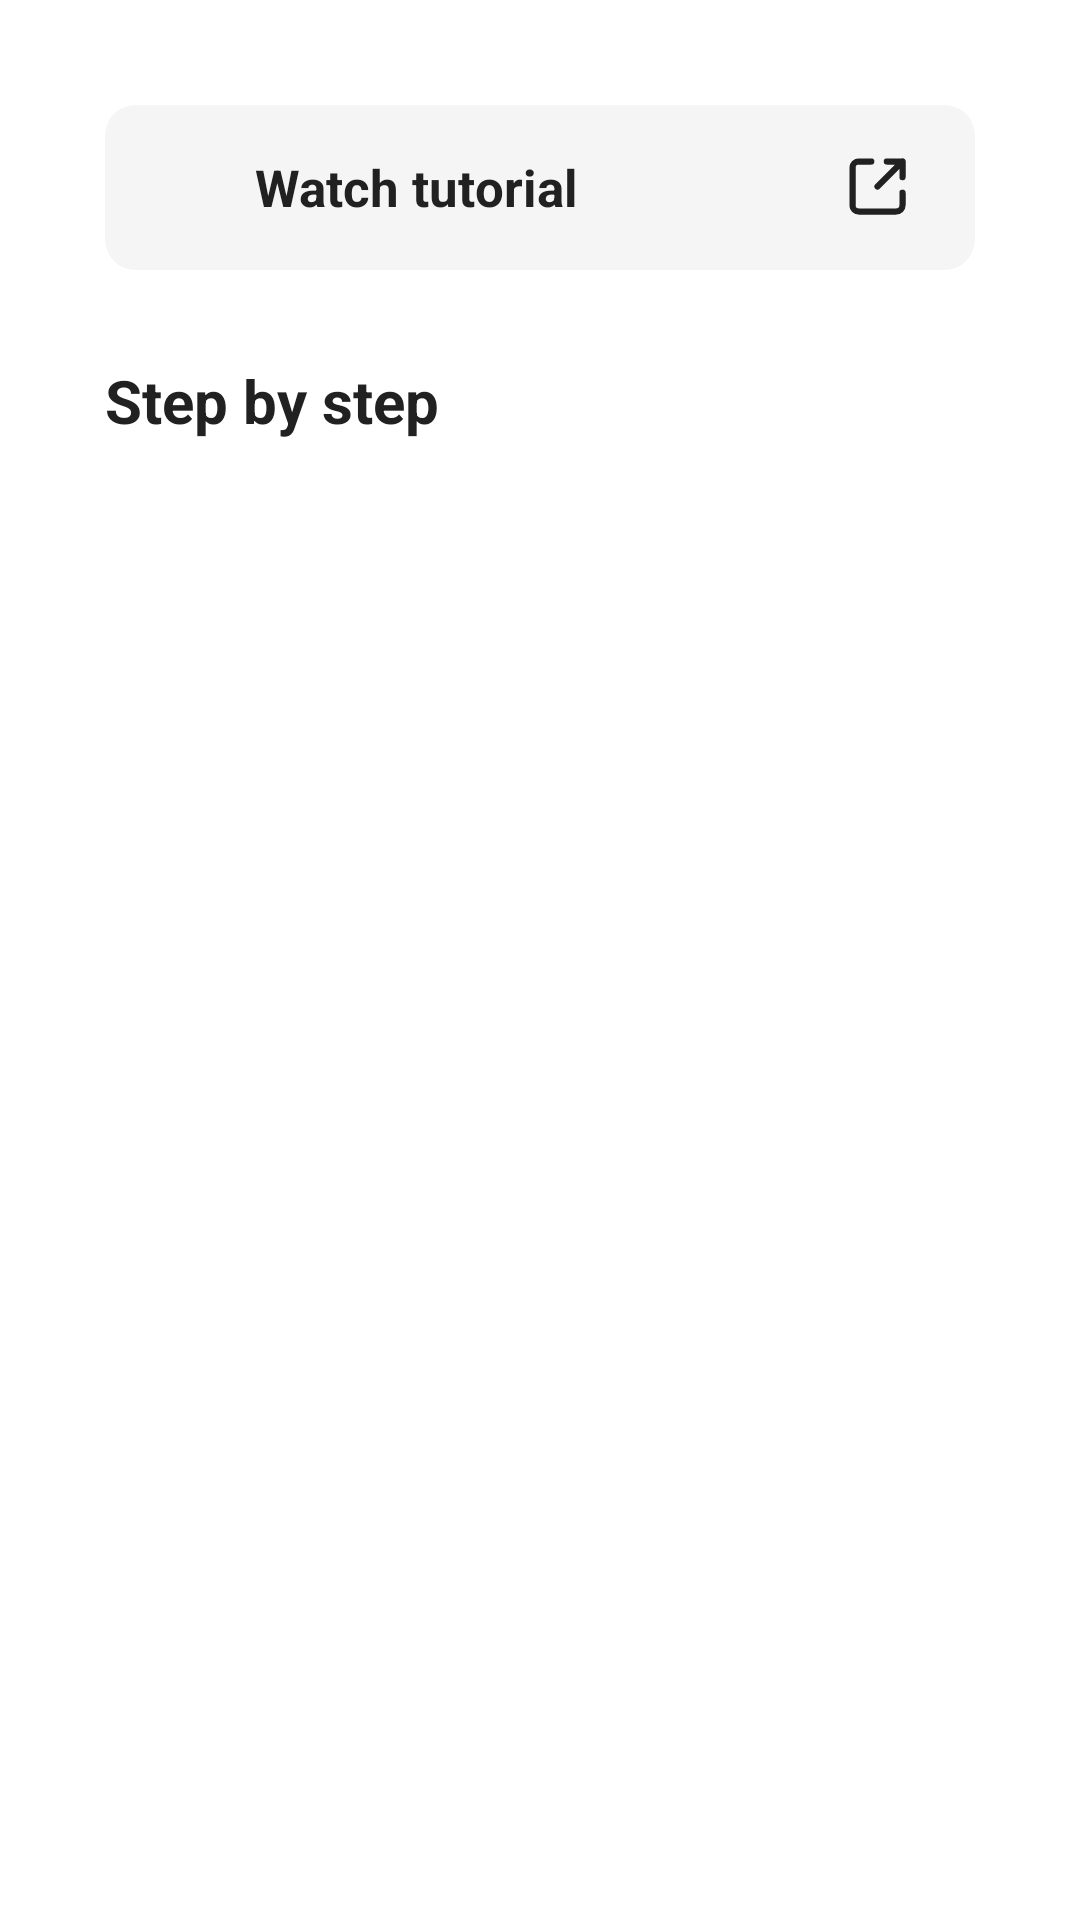

Icons on this 1080px×1920px Android screen, each with the point to tap as point (x, y):
open external: point (877, 186)
